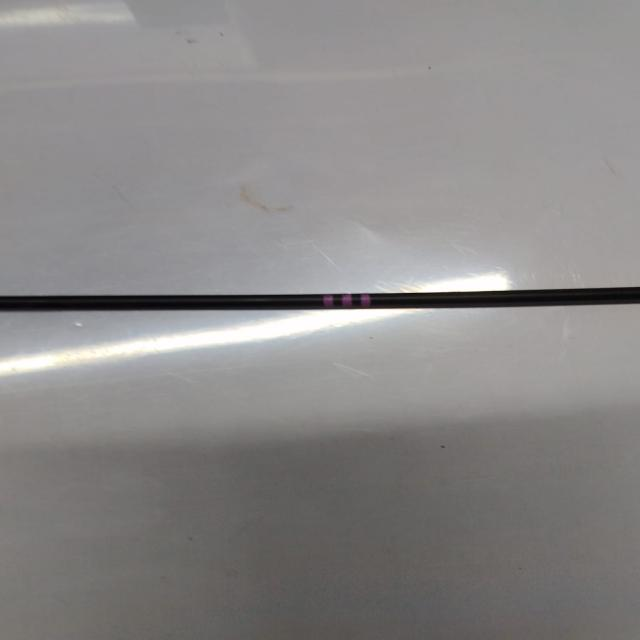pink: (322, 294, 371, 309)
